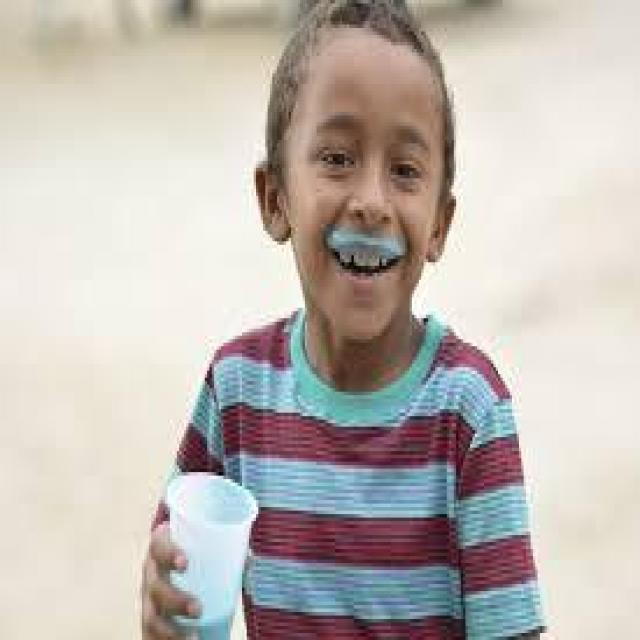person: (137, 7, 545, 636)
